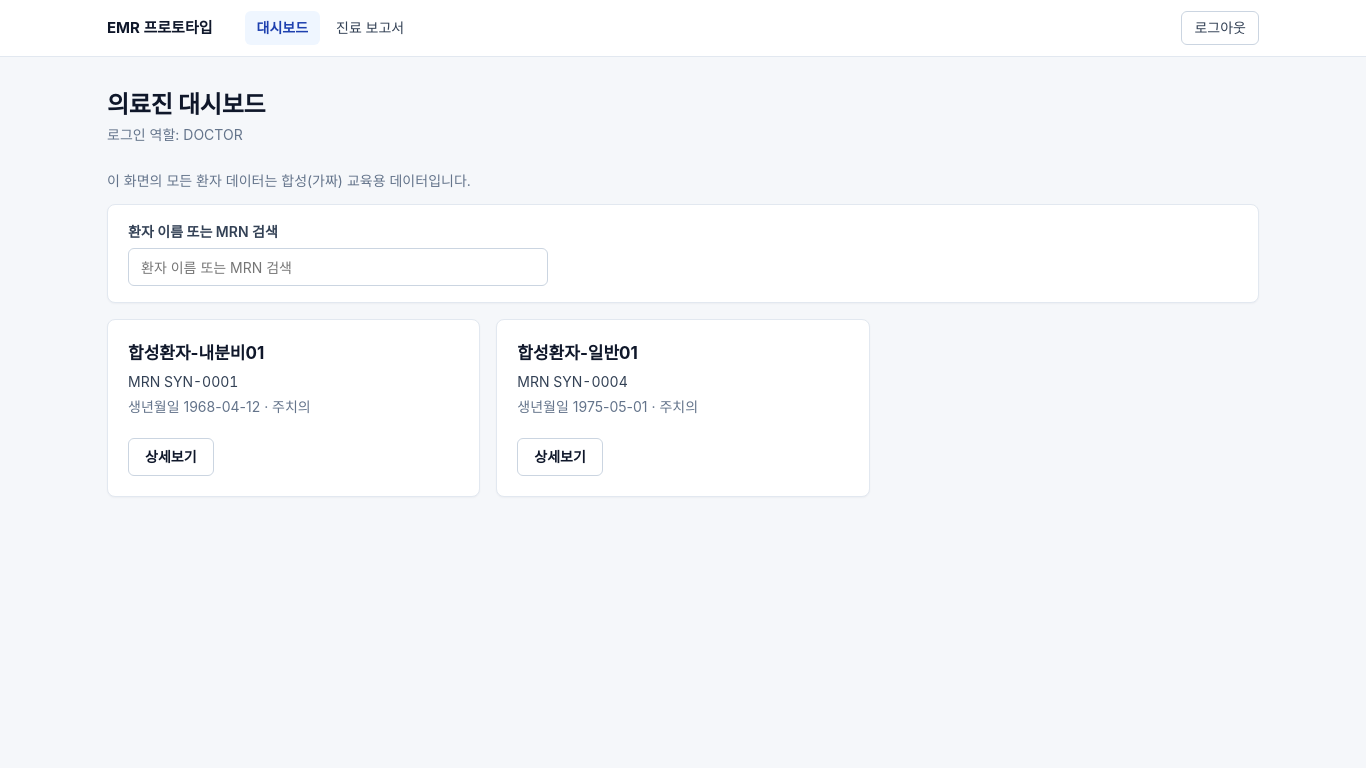
Test: DoctorDashboard Patient Search (UX-1A) › ignores leading and trailing whitespace in the search query
This screenshot has width=1366, height=768.
Check: the text "합성환자-내분비01" is shown, box [128,343,264,363]
Type "  0001  " into the field labelled "환자 이름 또는 MRN 검색". click: (338, 267)
box: [128,248,548,286]
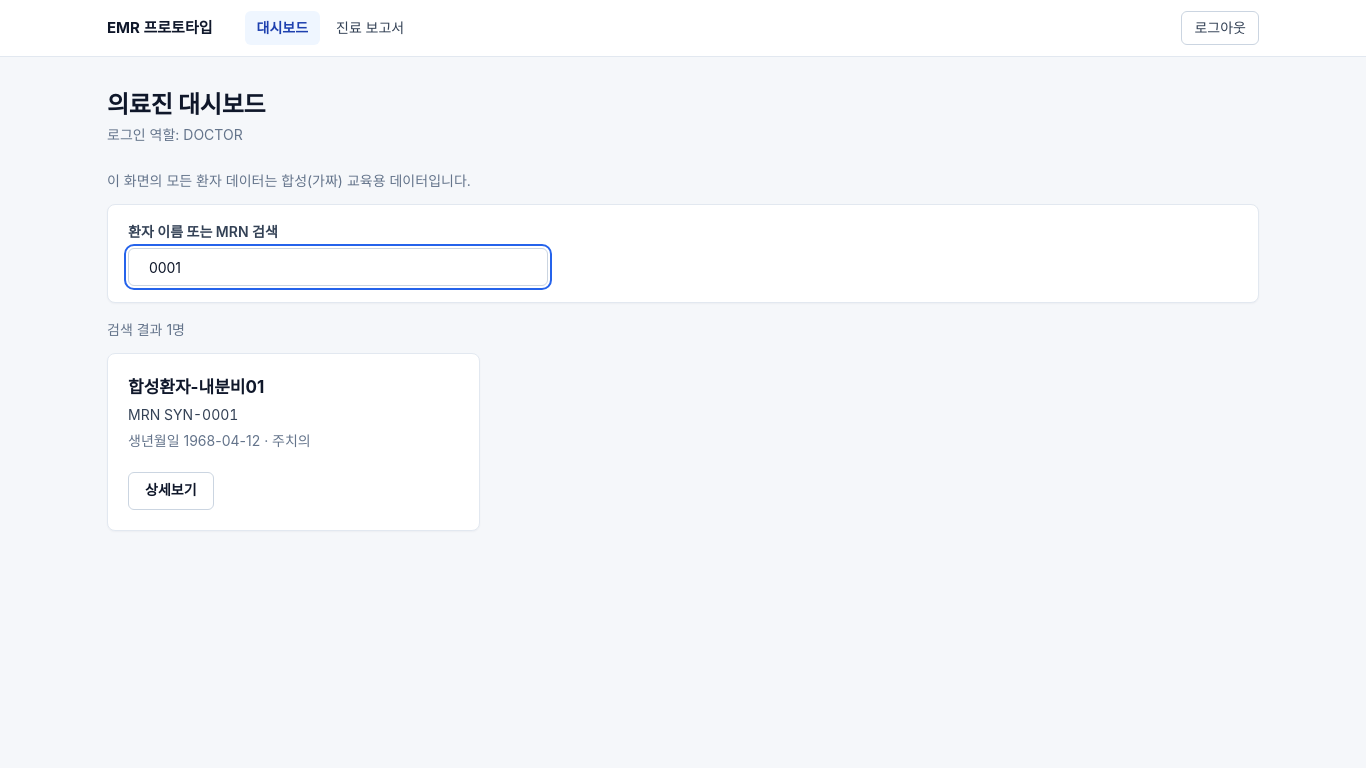
Check: the text "합성환자-내분비01" is shown, box [128,377,264,397]
Check: the text "합성환자-일반01" is gone
Check: the text "검색 결과 1명" is shown, box [107,321,185,338]
